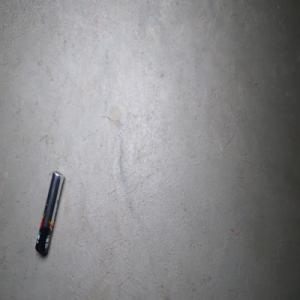Battery: (34, 170, 64, 255)
